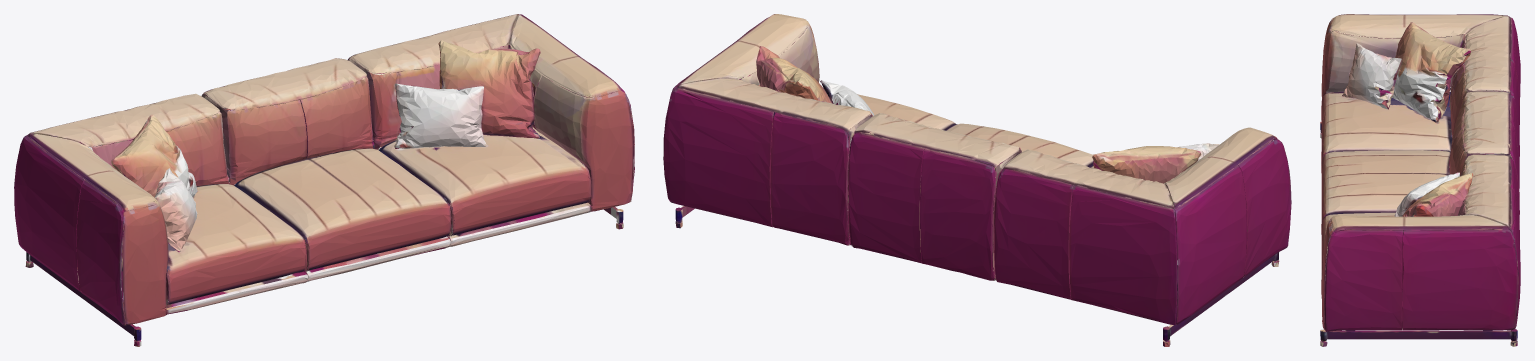
Rendered from edited_mesh.glb.
The picture shows the model from 3 angles, left to right: view 1: azimuth 30°, elevation 25°; view 2: azimuth 150°, elevation 25°; view 3: azimuth 270°, elevation 25°; orthographic projection. The views are drawn at different scales.
Parts seen in each view (by area): view 1: solid_001_wire; view 2: solid_001_wire; view 3: solid_001_wire.
Part boxes in pixels (x1=…): solid_001_wire: x1=14, y1=14, x2=634, y2=346; solid_001_wire: x1=663, y1=14, x2=1291, y2=346; solid_001_wire: x1=1320, y1=14, x2=1520, y2=346.
Bounding box in the file's own units: 2 × 0.5532 × 0.7635.
Materials: 1 (1 with a texture image).
